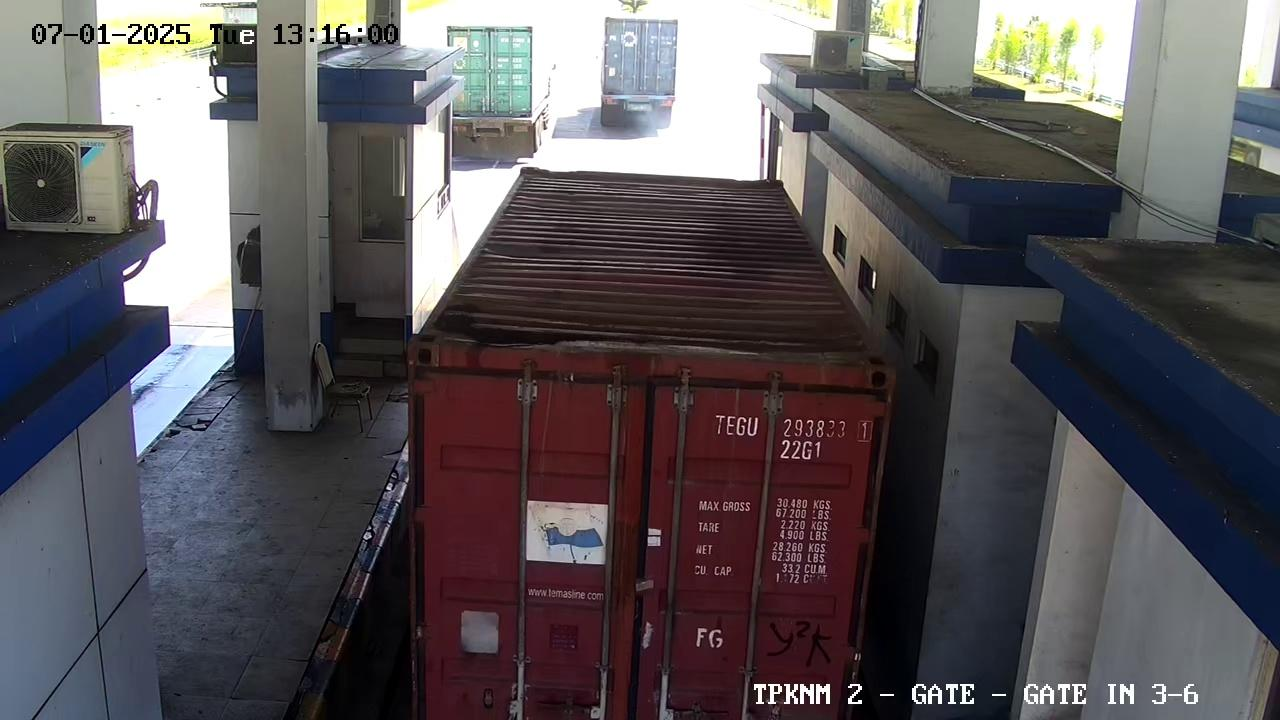Container_ID: (698, 395, 883, 473)
